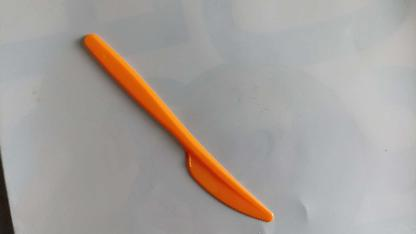Others: (82, 35, 280, 226)
